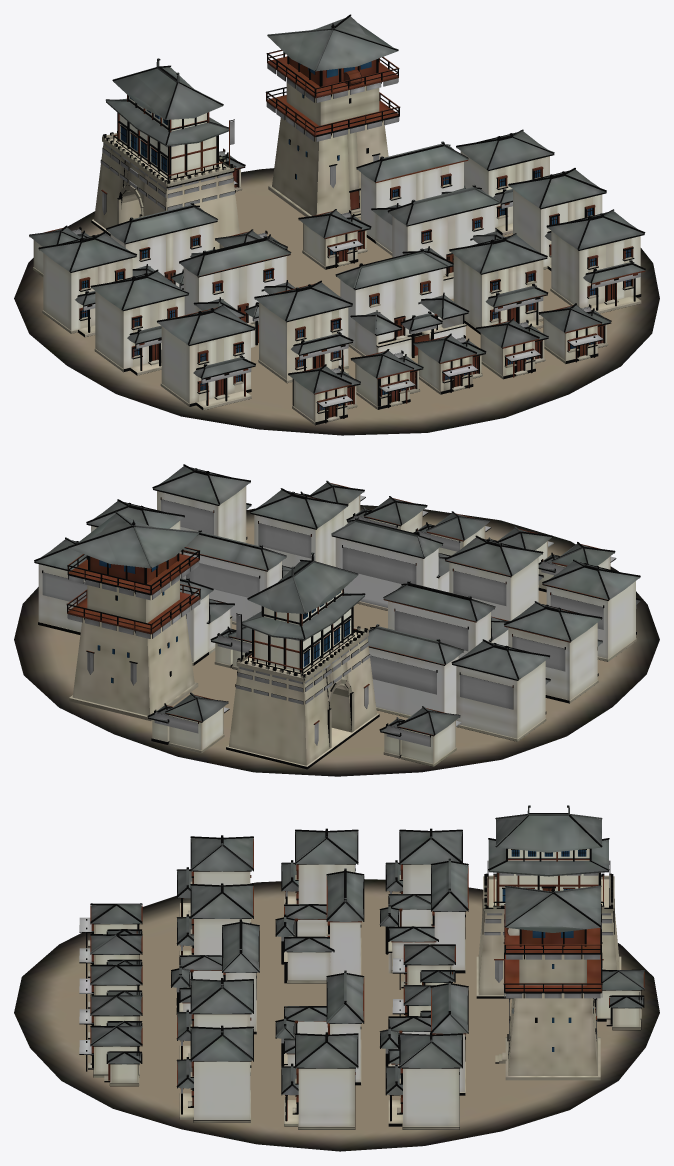
Rendered from classical-town-big-b-d660eb0f.glb.
3 renders of one model, top to bottom at view 1: azimuth 30°, elevation 25°; view 2: azimuth 150°, elevation 25°; view 3: azimuth 270°, elevation 25°, orthographic.
Visible parts, largest first — view 1: LOD0; view 2: LOD0; view 3: LOD0.
Part boxes in pixels (x1,y1,x2,y2): LOD0: [14, 14, 659, 435]; LOD0: [14, 464, 659, 776]; LOD0: [14, 805, 659, 1151].
Size of what is drawn, in the model's own units: 8.04 by 2.4 by 8.04.
3 materials, 3 textured.
